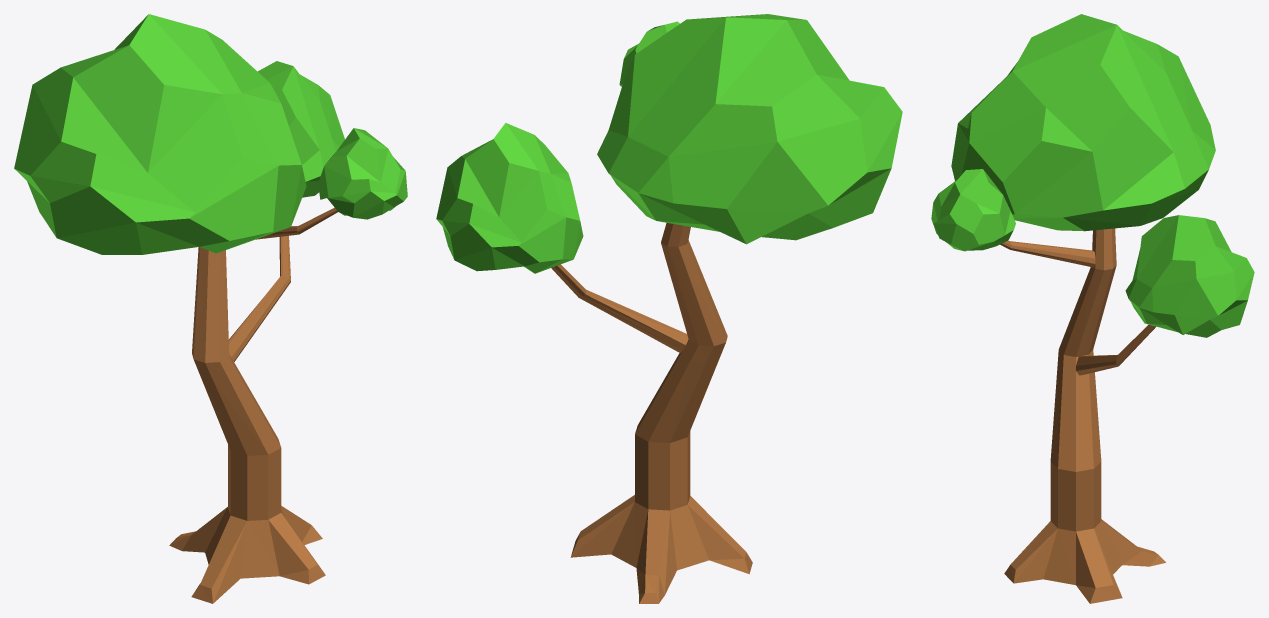
The model's file is small simple tree.fbx.
3 renders of one model, left to right at view 1: azimuth 30°, elevation 25°; view 2: azimuth 150°, elevation 25°; view 3: azimuth 270°, elevation 25°, orthographic. The views are drawn at different scales.
Visible parts, largest first — view 1: piccolo2, Cylinder, piccolo_1, piccolo; view 2: piccolo2, Cylinder, piccolo, piccolo_1; view 3: piccolo2, Cylinder, piccolo, piccolo_1.
Part boxes in pixels (<box>): piccolo2: <box>14,14,306,254</box>; Cylinder: <box>169,207,337,603</box>; piccolo_1: <box>318,128,407,219</box>; piccolo: <box>258,61,344,197</box>; piccolo2: <box>597,14,902,244</box>; Cylinder: <box>551,222,752,603</box>; piccolo: <box>436,123,583,273</box>; piccolo_1: <box>619,21,679,86</box>; piccolo2: <box>951,14,1215,231</box>; Cylinder: <box>1000,228,1165,603</box>; piccolo: <box>1125,215,1254,337</box>; piccolo_1: <box>931,169,1015,251</box>.
Bounding box in the file's own units: 7.56 × 11.36 × 6.45.
